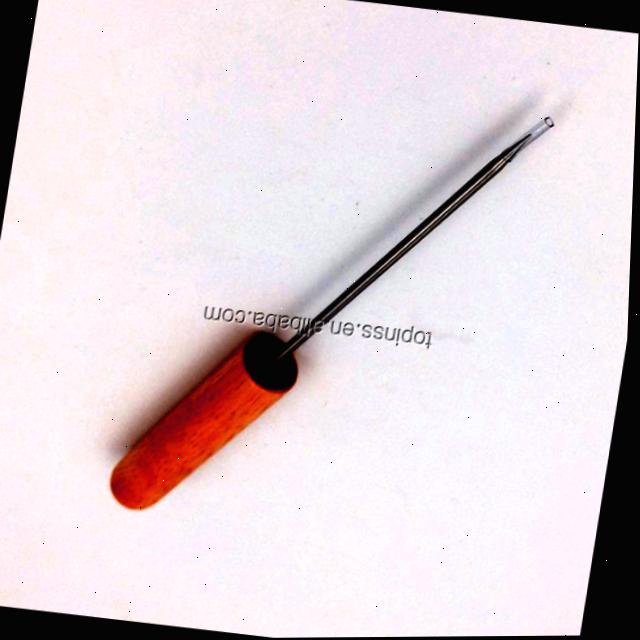ice pick: (106, 87, 535, 549)
